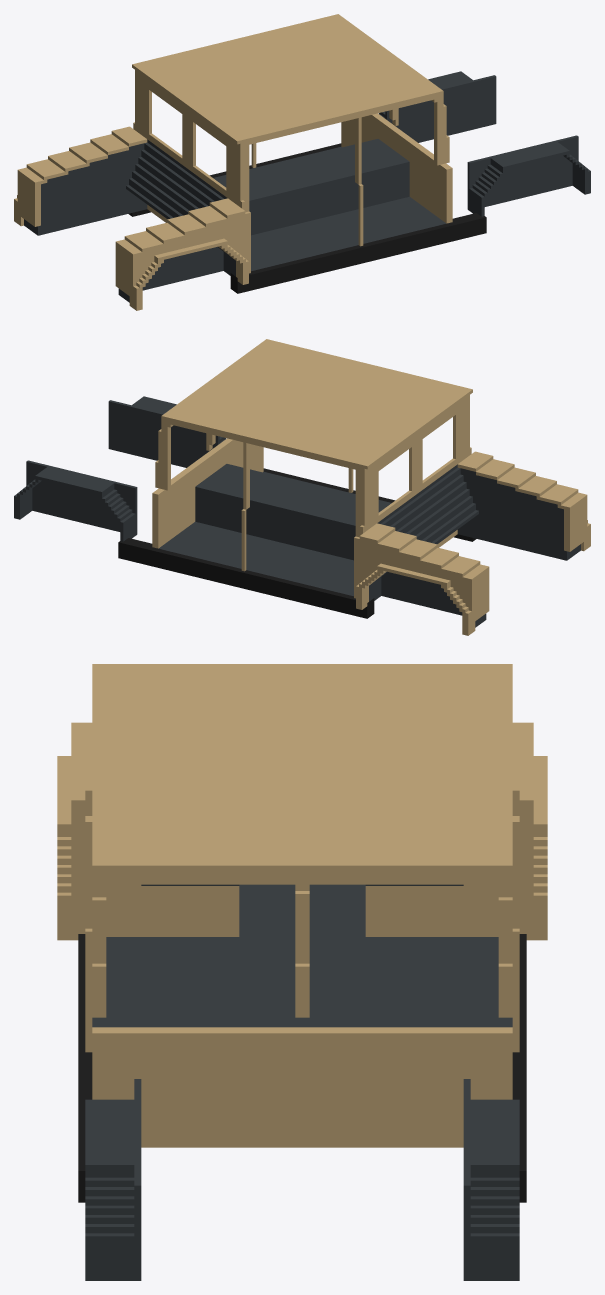
File: light_tactical_vehicle_hull.glb
The picture shows the model from 3 angles, top to bottom: view 1: azimuth 30°, elevation 25°; view 2: azimuth 150°, elevation 25°; view 3: azimuth 270°, elevation 25°; orthographic projection. The views are drawn at different scales.
Parts seen in each view (by area): view 1: body:compound; view 2: body:compound; view 3: body:compound.
Boxes of the visible parts, left/top/right/bottom form: body:compound: left=14, top=14, right=590, bottom=310; body:compound: left=14, top=339, right=590, bottom=635; body:compound: left=57, top=664, right=547, bottom=1280.
Bounding box in the file's own units: 4.75 × 1.47 × 2.19.
